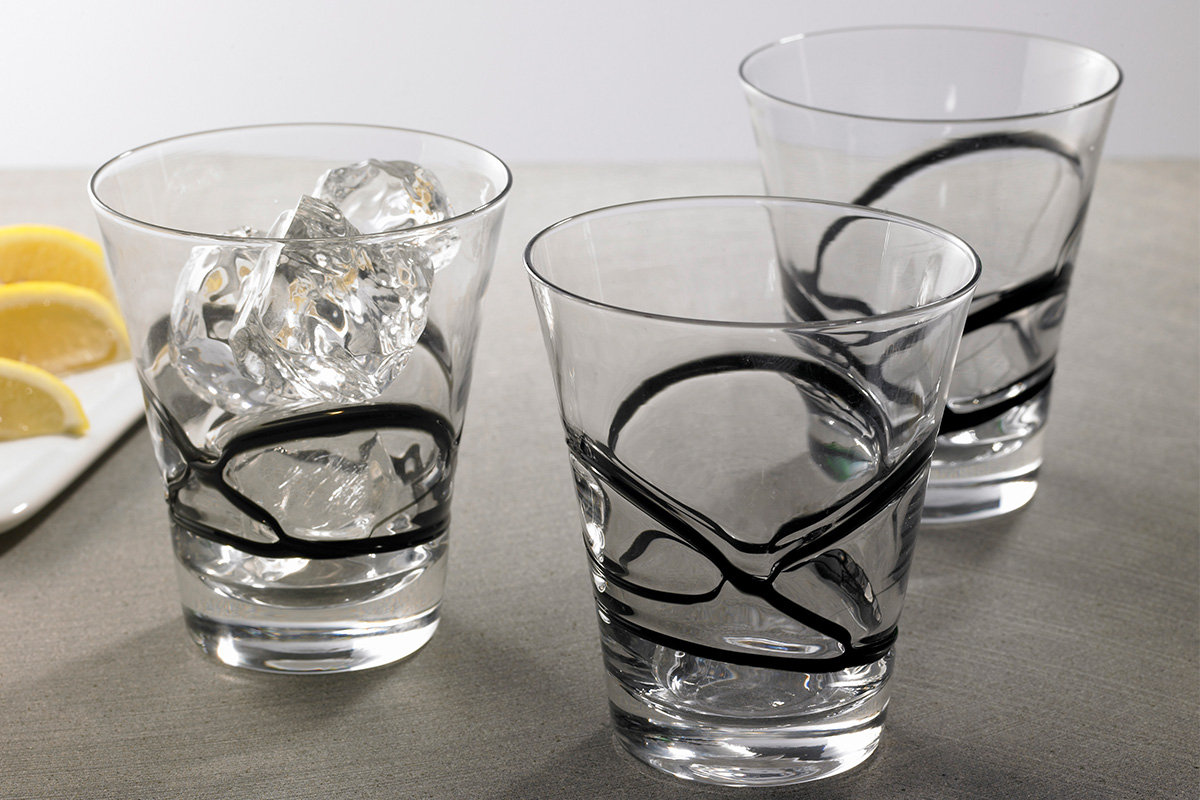Nonrec_Glass: (76, 128, 508, 710), (523, 175, 928, 790), (734, 7, 1088, 531)
